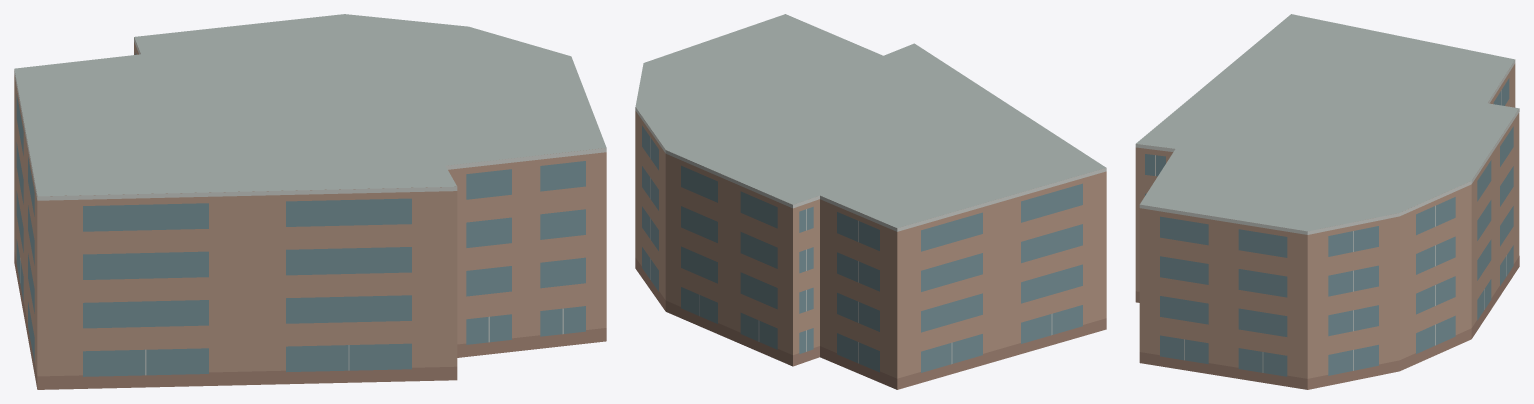
File: survey-upis-32800930.glb
The picture shows the model from 3 angles, left to right: view 1: azimuth 30°, elevation 25°; view 2: azimuth 150°, elevation 25°; view 3: azimuth 270°, elevation 25°; orthographic projection. The views are drawn at different scales.
Parts seen in each view (by area): view 1: survey-upis-32800930.tmp; view 2: survey-upis-32800930.tmp; view 3: survey-upis-32800930.tmp.
Part boxes in pixels (x1=…): survey-upis-32800930.tmp: x1=14, y1=14, x2=606, y2=389; survey-upis-32800930.tmp: x1=635, y1=14, x2=1106, y2=389; survey-upis-32800930.tmp: x1=1135, y1=14, x2=1519, y2=389.
Bounding box in the file's own units: 32.08 × 10.9 × 23.94.
